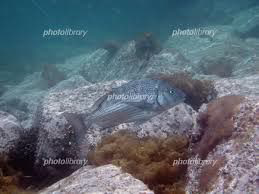kurodai: (67, 82, 189, 133)
